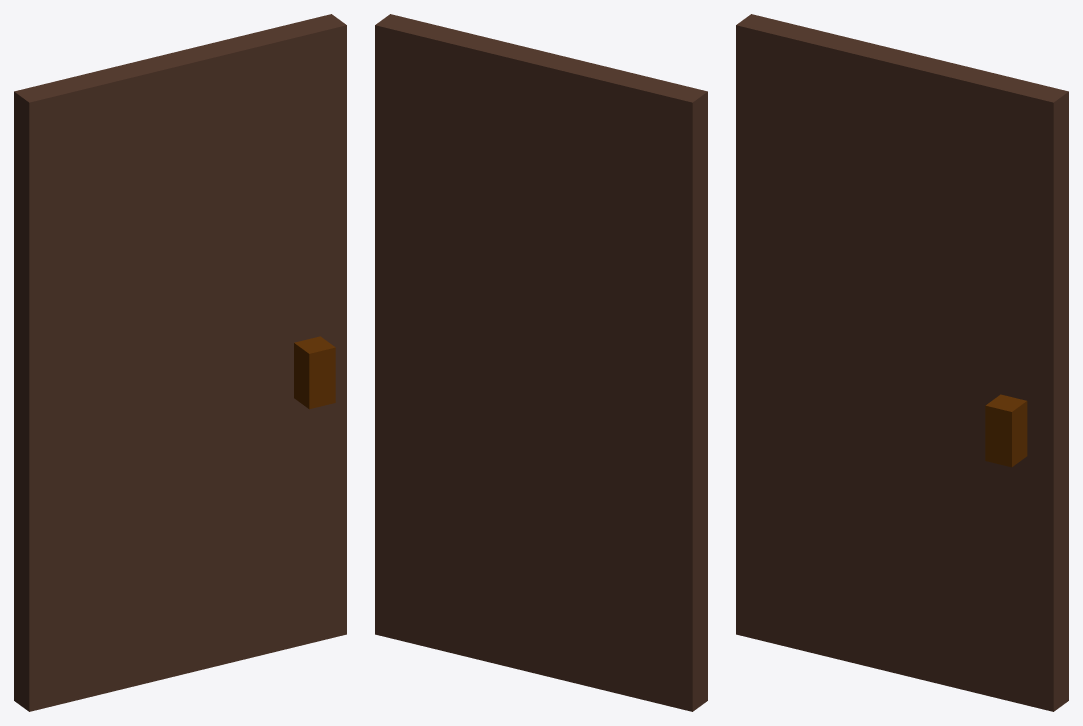
The model's file is door.obj.
3 views of the same model, side by side, from view 1: azimuth 30°, elevation 25°; view 2: azimuth 150°, elevation 25°; view 3: azimuth 330°, elevation 25° (orthographic).
Size of the model in its own units: 1.2 by 2.2 by 0.2.
1 material, 1 textured.
